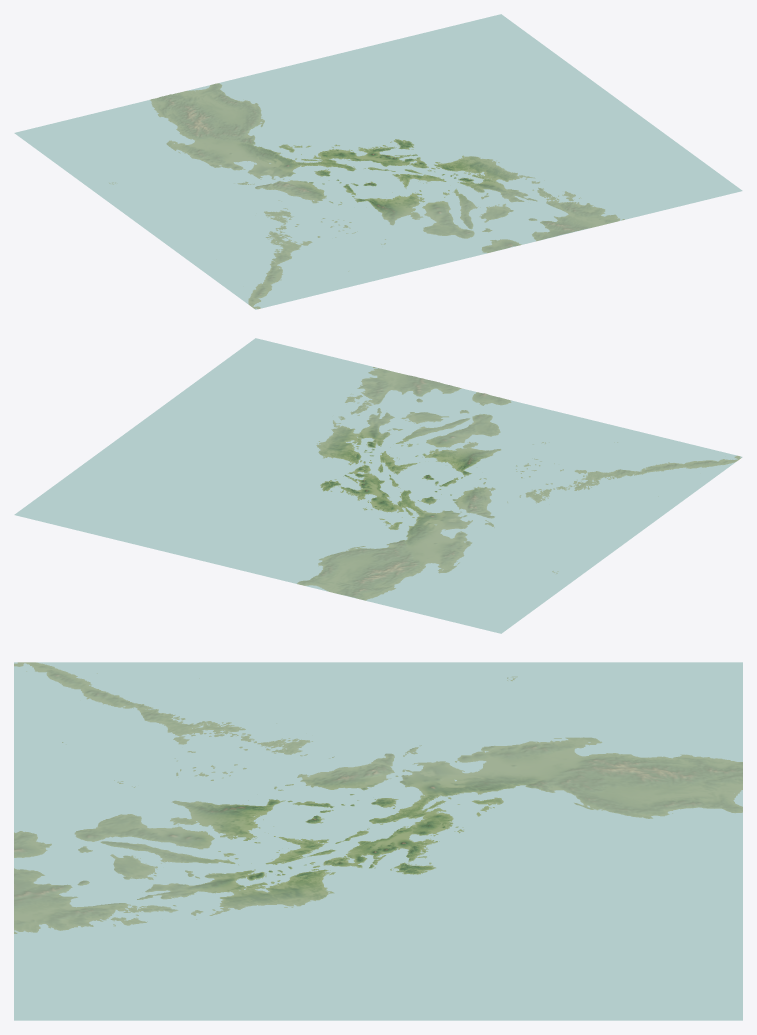
File: bicol.glb
3 views of the same model, one above another, from view 1: azimuth 30°, elevation 25°; view 2: azimuth 150°, elevation 25°; view 3: azimuth 270°, elevation 25° (orthographic). The views are drawn at different scales.
Visible parts, largest first — view 1: Water, Terrain; view 2: Water, Terrain; view 3: Water, Terrain.
Part boxes in pixels (<box>): Water: <box>14,14,742,309</box>; Terrain: <box>109,83,624,309</box>; Water: <box>14,338,742,633</box>; Terrain: <box>297,367,741,600</box>; Water: <box>14,662,742,1020</box>; Terrain: <box>14,662,742,933</box>.
Size of the model in its own units: 1321672 by 4726 by 1135459.
